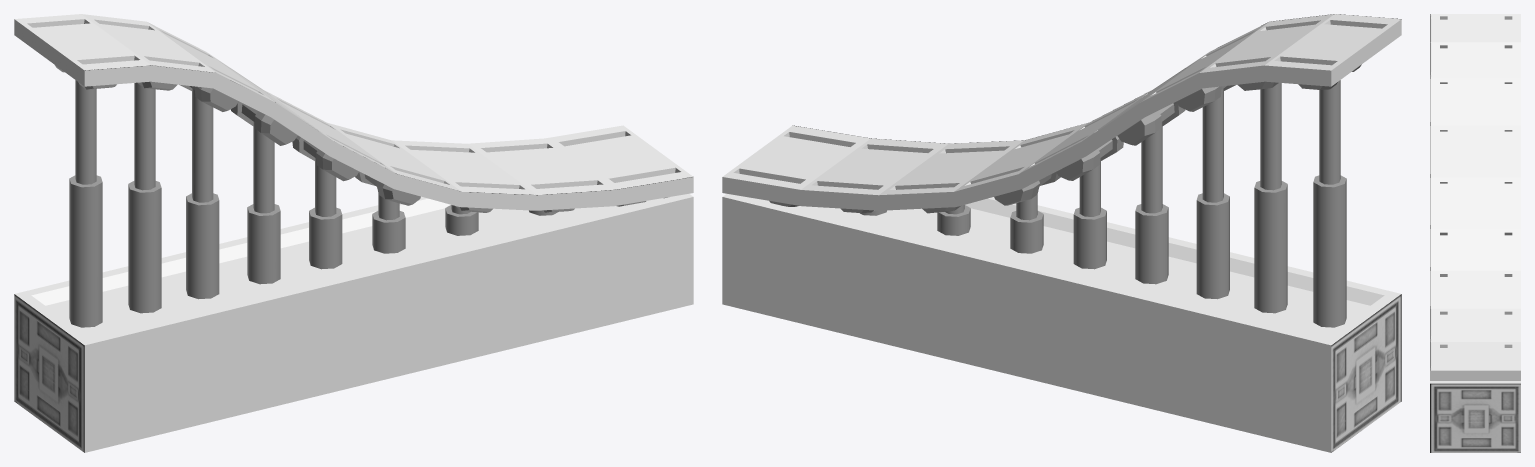
File: Ramp2.fbx
The picture shows the model from 3 angles, left to right: view 1: azimuth 30°, elevation 25°; view 2: azimuth 150°, elevation 25°; view 3: azimuth 270°, elevation 25°; orthographic projection. The views are drawn at different scales.
Parts seen in each view (by area): view 1: polySurface491; view 2: polySurface491; view 3: polySurface491.
Boxes of the visible parts, x1,y1,x2,y2 form: polySurface491: (14,14,693,452); polySurface491: (722,14,1401,452); polySurface491: (1430,14,1520,452).
Bounding box in the file's own units: 5 × 3 × 1.
